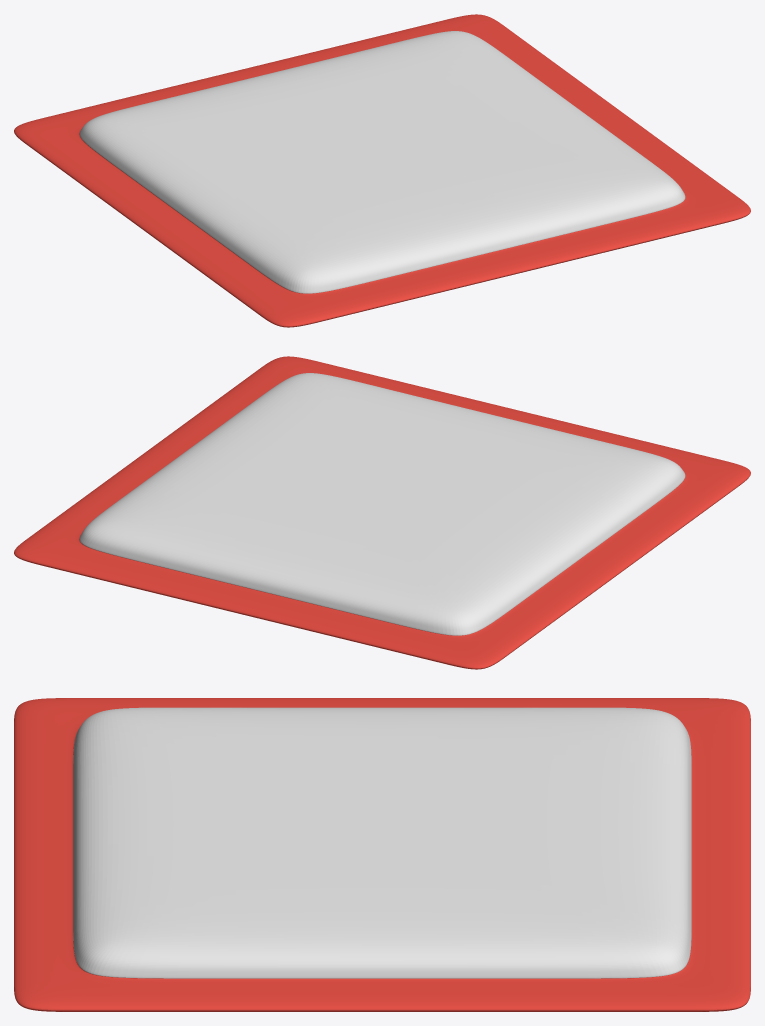
The model's file is Far-Jumppad.fbx.
3 views of the same model, one above another, from view 1: azimuth 30°, elevation 25°; view 2: azimuth 150°, elevation 25°; view 3: azimuth 270°, elevation 25° (orthographic). The views are drawn at different scales.
Parts seen in each view (by area): view 1: Cube.001; view 2: Cube.001; view 3: Cube.001.
Part boxes in pixels (bbox=[...]): Cube.001: bbox=[14, 14, 750, 327]; Cube.001: bbox=[14, 356, 750, 669]; Cube.001: bbox=[14, 698, 750, 1011].
Bounding box in the file's own units: 1192 × 66.18 × 1192.
